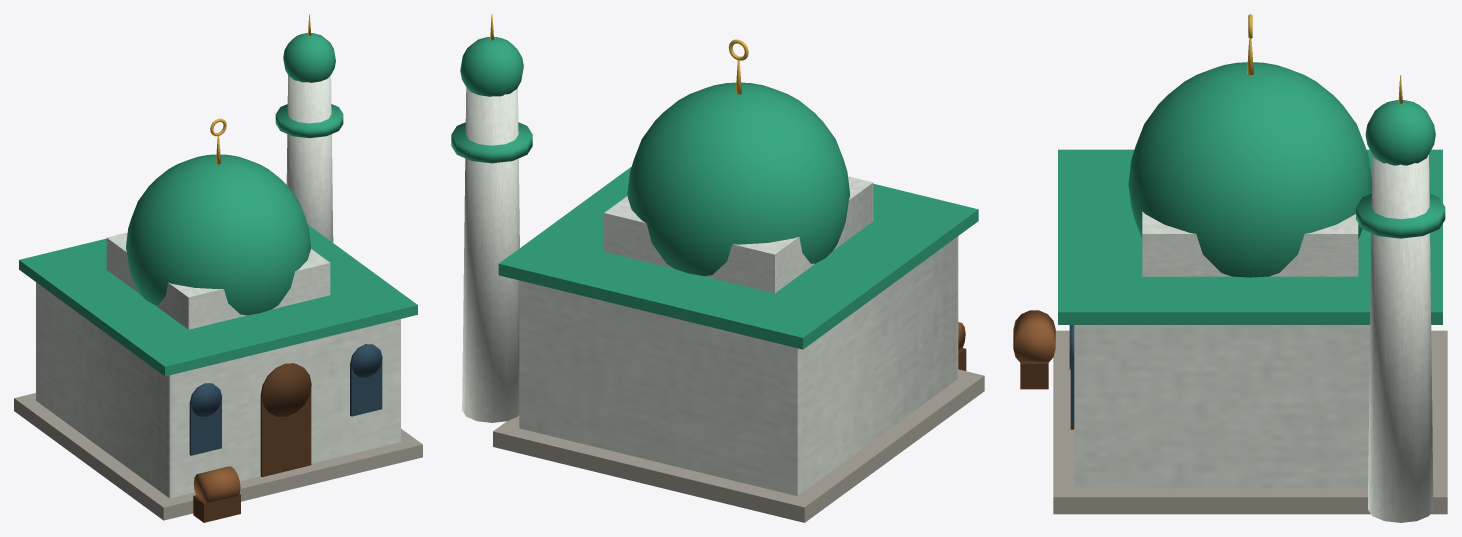
Rendered from prop_masjid.glb.
3 views of the same model, side by side, from view 1: azimuth 30°, elevation 25°; view 2: azimuth 150°, elevation 25°; view 3: azimuth 270°, elevation 25° (orthographic). The views are drawn at different scales.
Parts seen in each view (by area): view 1: masjid; view 2: masjid; view 3: masjid.
Boxes of the visible parts, box(x1,y1,x2,y2) form: masjid: box(14, 14, 422, 522); masjid: box(451, 14, 984, 522); masjid: box(1013, 14, 1447, 522).
Size of the model in its own units: 9.95 by 10.6 by 9.25.
7 materials, 1 textured.
